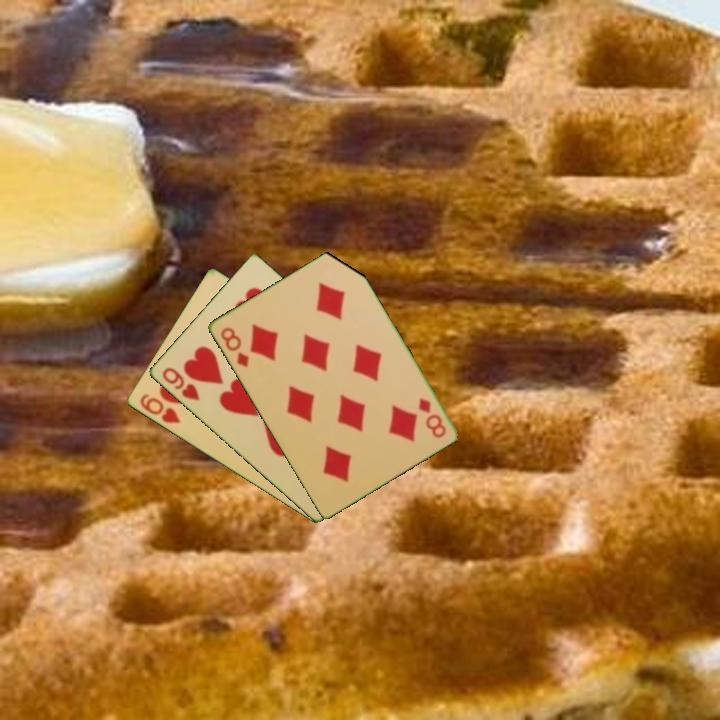6h: (136, 390, 183, 426)
8d: (216, 323, 252, 370), (414, 394, 449, 441)
9h: (158, 364, 202, 404)
